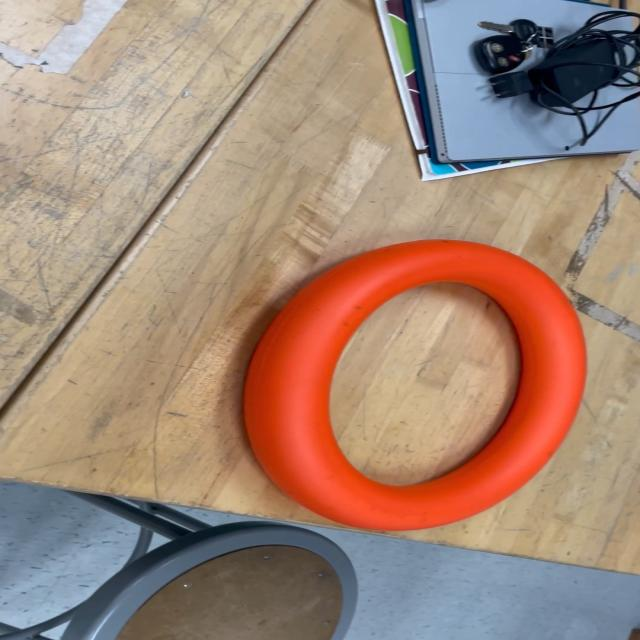note: (245, 239, 589, 531)
